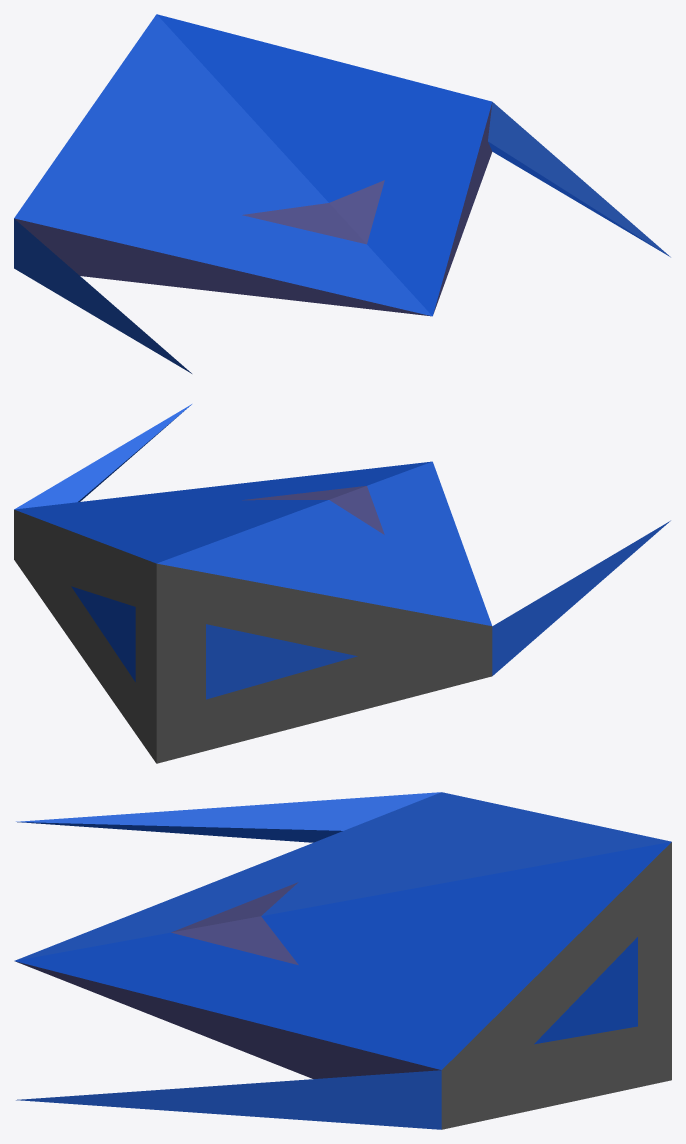
The model's file is arc_krait.glb.
3 renders of one model, top to bottom at view 1: azimuth 30°, elevation 25°; view 2: azimuth 150°, elevation 25°; view 3: azimuth 270°, elevation 25°, orthographic. The views are drawn at different scales.
Visible parts, largest first — view 1: griff_arcelite_krait; view 2: griff_arcelite_krait, griff_arcelite_krait.002, griff_arcelite_krait.001; view 3: griff_arcelite_krait, griff_arcelite_krait.001.
Boxes of the visible parts, x1,y1,x2,y2 form: griff_arcelite_krait: (14,14,670,373); griff_arcelite_krait: (14,404,670,763); griff_arcelite_krait.002: (206,624,357,699); griff_arcelite_krait.001: (71,586,135,681); griff_arcelite_krait: (14,792,671,1129); griff_arcelite_krait.001: (534,937,637,1044).
Size of the model in its own units: 0.9024 by 0.361 by 0.9024.
Materials: 1 (1 with a texture image).
